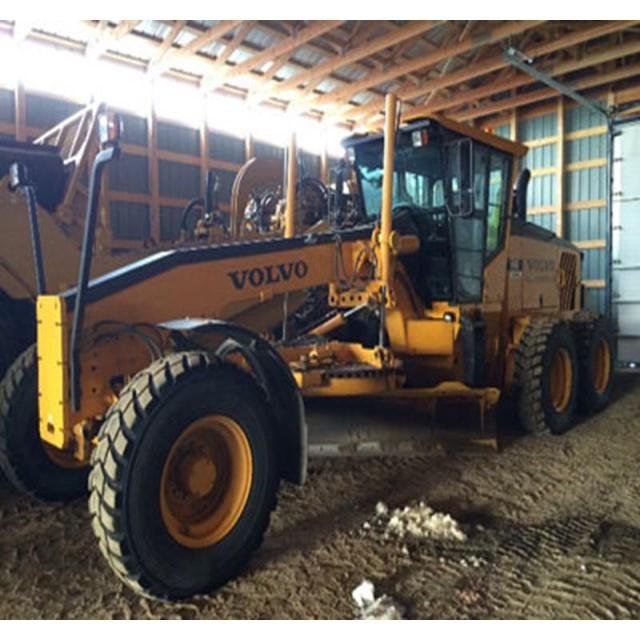bull_dozer/loader/grader: (25, 95, 639, 599)
